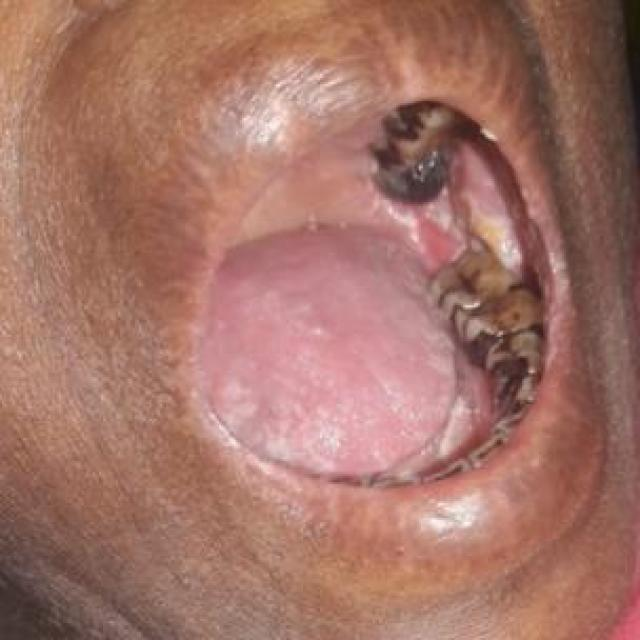leukoplakia-detection: (359, 145, 572, 297), (379, 351, 490, 475)
processing_area: (202, 117, 568, 469)
